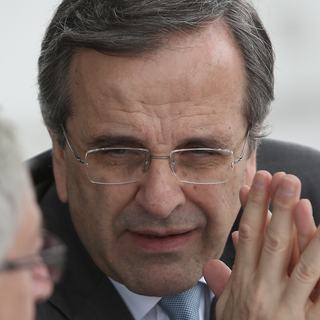eye: (175, 132, 235, 175), (82, 132, 145, 172)
